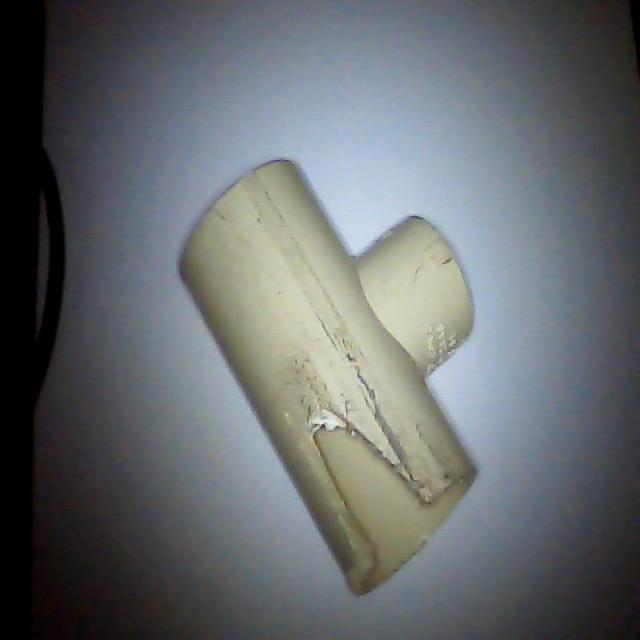Defective: (293, 402, 430, 558)
T Joint: (177, 159, 480, 600)
